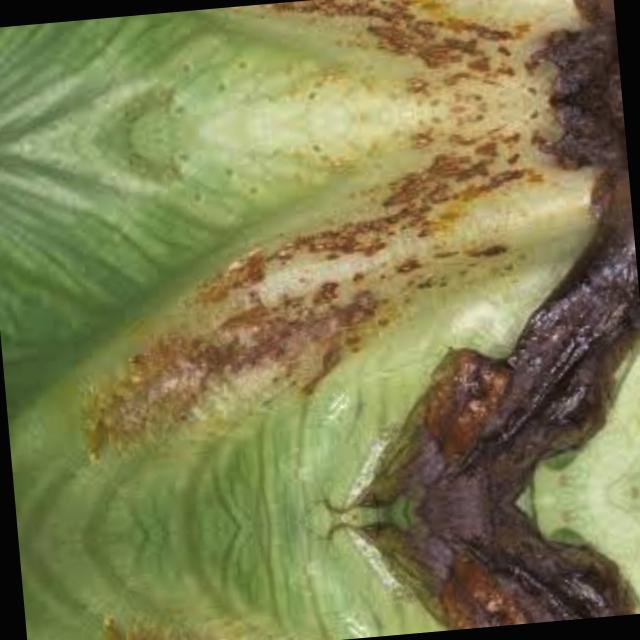Downy_mildew: (93, 100, 640, 515), (82, 0, 621, 134), (129, 511, 640, 640)
